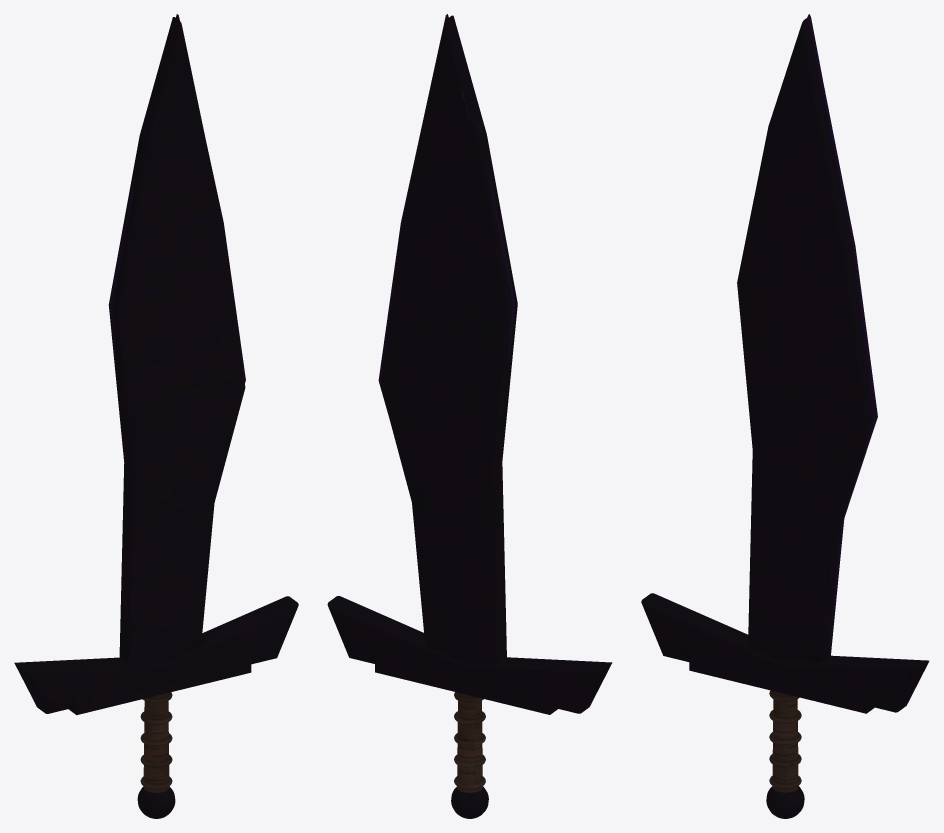
File: blade_void.glb
3 views of the same model, side by side, from view 1: azimuth 30°, elevation 25°; view 2: azimuth 150°, elevation 25°; view 3: azimuth 330°, elevation 25° (orthographic).
Visible parts, largest first — view 1: Blade_void; view 2: Blade_void; view 3: Blade_void.
Boxes of the visible parts, box(x1,y1,x2,y2) form: Blade_void: box(14, 14, 298, 818); Blade_void: box(327, 14, 612, 818); Blade_void: box(641, 14, 929, 818).
Bounding box in the file's own units: 0.5344 × 1.48 × 0.064.
Materials: 1 (1 with a texture image).
